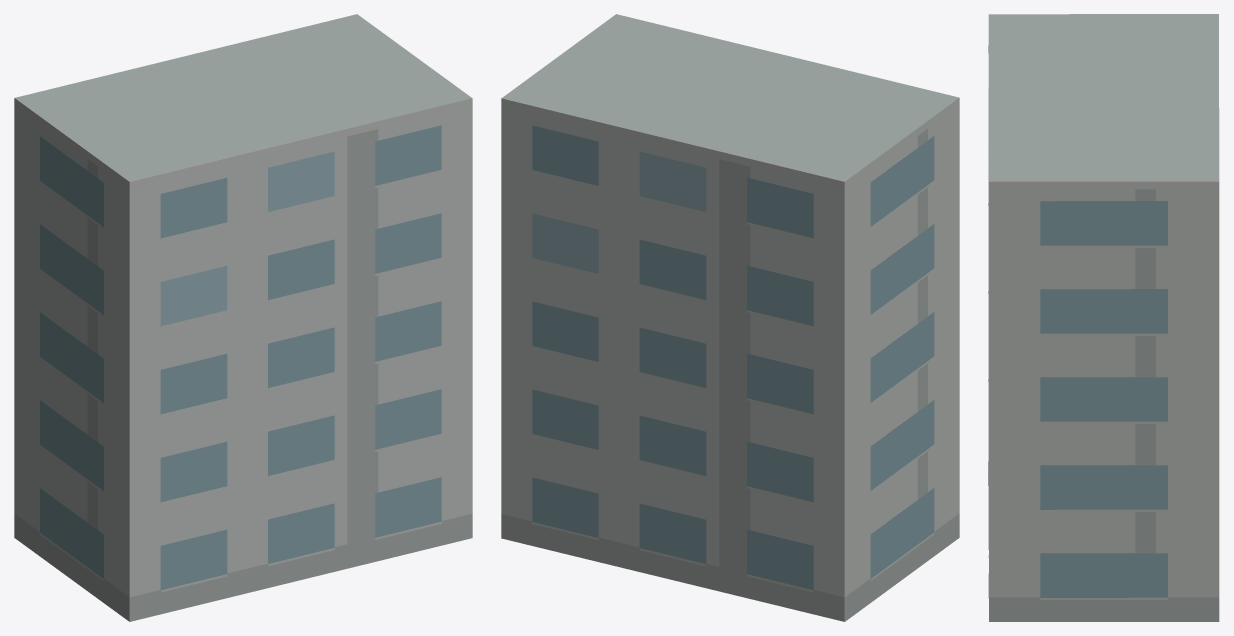
File: survey-upis-33044004.glb
3 renders of one model, left to right at view 1: azimuth 30°, elevation 25°; view 2: azimuth 150°, elevation 25°; view 3: azimuth 270°, elevation 25°, orthographic.
Parts seen in each view (by area): view 1: survey-upis-33044004.tmp; view 2: survey-upis-33044004.tmp; view 3: survey-upis-33044004.tmp.
Part boxes in pixels (x1,y1,x2,y2): survey-upis-33044004.tmp: [14, 14, 472, 621]; survey-upis-33044004.tmp: [501, 14, 959, 621]; survey-upis-33044004.tmp: [988, 14, 1219, 621].
Bounding box in the file's own units: 11.42 × 13.95 × 6.65.
